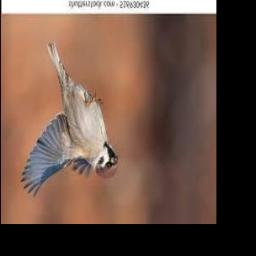Sparrow: (20, 44, 118, 198)
